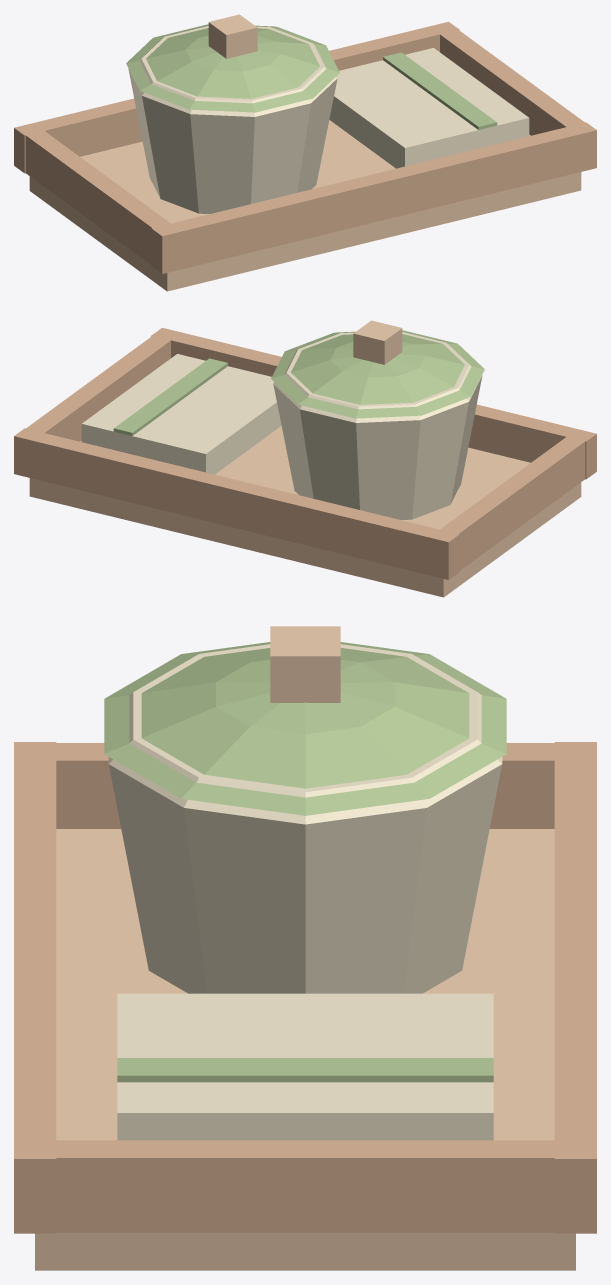
File: crafted-queue-1.glb
The picture shows the model from 3 angles, top to bottom: view 1: azimuth 30°, elevation 25°; view 2: azimuth 150°, elevation 25°; view 3: azimuth 270°, elevation 25°; orthographic projection. The views are drawn at different scales.
Parts seen in each view (by area): view 1: tray-edge-1, ingredient-bowl, tray-floor, folded-cloth, ingredient-cover, tray-edge-2, tray-edge, tray-edge-3, cloth-stripe, cover-knob; view 2: tray-edge, ingredient-bowl, tray-floor, folded-cloth, ingredient-cover, tray-edge-2, tray-edge-1, tray-edge-3, cloth-stripe, cover-knob; view 3: ingredient-bowl, tray-floor, tray-edge-3, folded-cloth, ingredient-cover, tray-edge-1, tray-edge, tray-edge-2, cloth-stripe, cover-knob.
Part boxes in pixels (left/top/right/bottom): tray-edge-1: left=151, top=122, right=596, bottom=273; ingredient-bowl: left=128, top=26, right=337, bottom=213; tray-floor: left=29, top=120, right=581, bottom=291; folded-cloth: left=329, top=48, right=529, bottom=168; ingredient-cover: left=126, top=24, right=339, bottom=112; tray-edge-2: left=22, top=127, right=175, bottom=264; tray-edge: left=14, top=21, right=459, bottom=173; tray-edge-3: left=435, top=26, right=584, bottom=135; cloth-stripe: left=383, top=52, right=497, bottom=129; cover-knob: left=208, top=14, right=257, bottom=58; tray-edge: left=14, top=428, right=459, bottom=579; ingredient-bowl: left=273, top=332, right=482, bottom=519; tray-floor: left=29, top=426, right=581, bottom=597; folded-cloth: left=81, top=354, right=281, bottom=474; ingredient-cover: left=271, top=330, right=484, bottom=418; tray-edge-2: left=435, top=433, right=587, bottom=570; tray-edge-1: left=151, top=327, right=596, bottom=479; tray-edge-3: left=26, top=332, right=175, bottom=441; cloth-stripe: left=113, top=358, right=227, bottom=435; cover-knob: left=353, top=320, right=402, bottom=364; ingredient-bowl: left=108, top=644, right=502, bottom=993; tray-floor: left=35, top=829, right=575, bottom=1270; tray-edge-3: left=35, top=1140, right=575, bottom=1232; folded-cloth: left=117, top=993, right=493, bottom=1140; ingredient-cover: left=104, top=642, right=506, bottom=815; tray-edge-1: left=14, top=742, right=56, bottom=1233; tray-edge: left=554, top=742, right=596, bottom=1233; tray-edge-2: left=35, top=743, right=575, bottom=828; cloth-stripe: left=117, top=1058, right=493, bottom=1082; cover-knob: left=270, top=626, right=340, bottom=702.
Size of the model in its own units: 0.42 by 0.1695 by 0.248.
